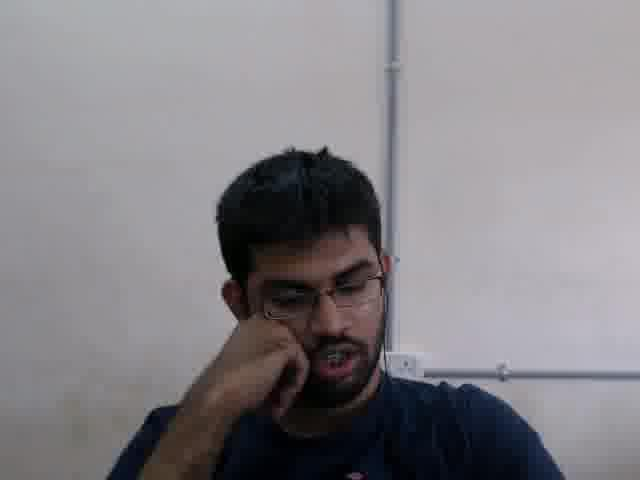bosan: (241, 228, 380, 392)
